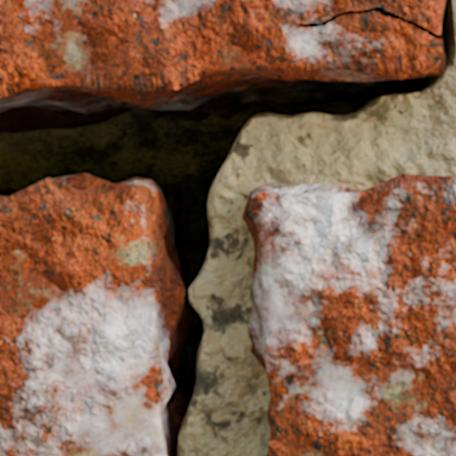brick: (243, 175, 455, 455), (0, 175, 183, 455), (0, 0, 444, 99)
crack: (0, 0, 453, 455)
